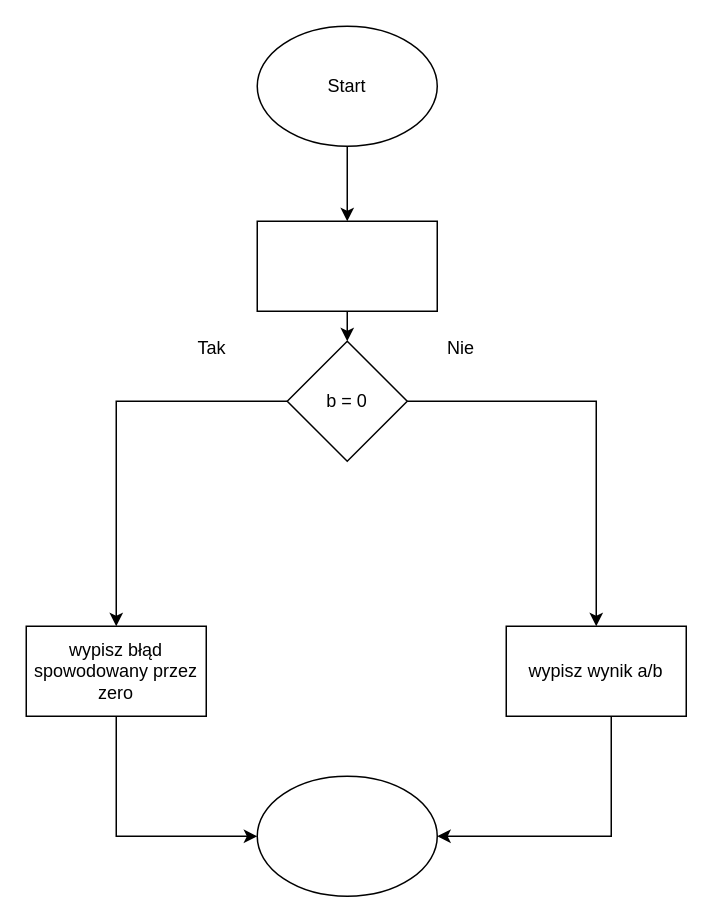
Image size: 713x923. Some labels were removed from this diagram. The centre of each missing label's shape, as x and y in pixels:
"pobiera a i b" goes at (x=346, y=265).
"stop" goes at (x=346, y=835).
